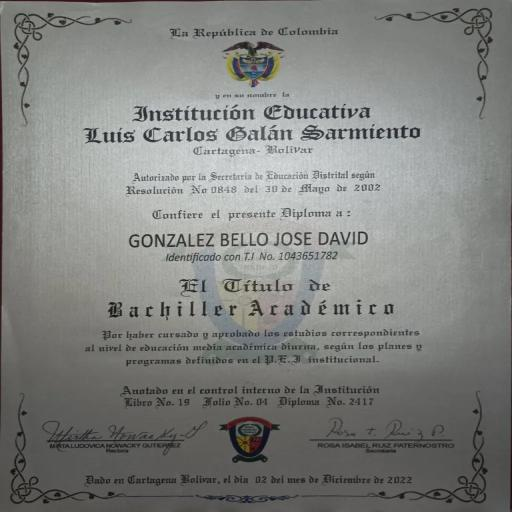bachillerato: (93, 294, 417, 321)
diploma: (0, 0, 511, 511)
escudo: (200, 39, 298, 91)
firma: (303, 409, 467, 468), (40, 408, 215, 461)
institucion: (62, 96, 442, 152)
nombre: (110, 226, 383, 254)
